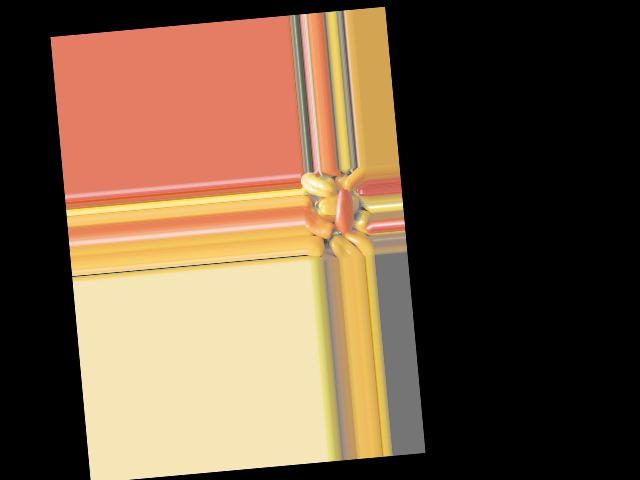bell_pepper: (301, 170, 334, 201)
